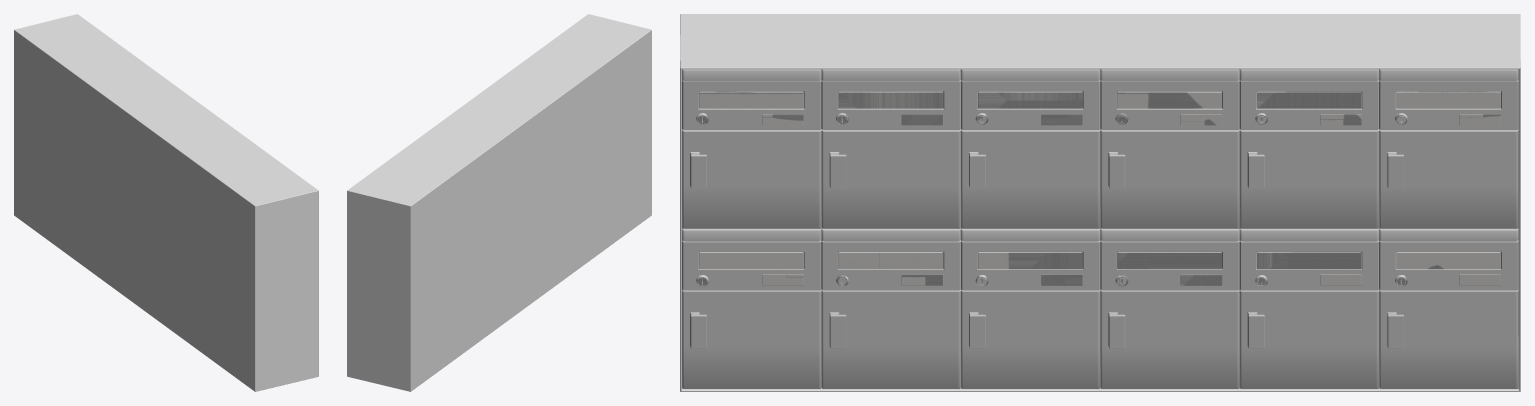
The model's file is BAL_fini.fbx.
3 renders of one model, left to right at view 1: azimuth 30°, elevation 25°; view 2: azimuth 150°, elevation 25°; view 3: azimuth 270°, elevation 25°, orthographic. The views are drawn at different scales.
Visible parts, largest first — view 1: Cube.005; view 2: Cube.005; view 3: Cube.007, Cube.005, Cube.006, Plane.001, Cylinder.001.
Part boxes in pixels (bbox=[...]): Cube.005: bbox=[14, 14, 318, 391]; Cube.005: bbox=[347, 14, 651, 391]; Cube.007: bbox=[682, 69, 1518, 388]; Cube.005: bbox=[680, 14, 1520, 391]; Cube.006: bbox=[699, 91, 1500, 269]; Plane.001: bbox=[762, 114, 1500, 285]; Cylinder.001: bbox=[696, 113, 1407, 286].
Size of the model in its own units: 26.01 by 69.6 by 163.
